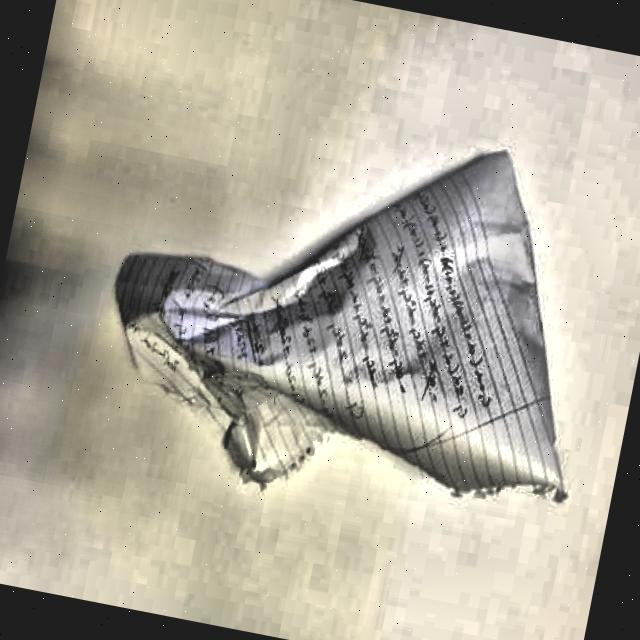paper: (84, 82, 631, 548)
